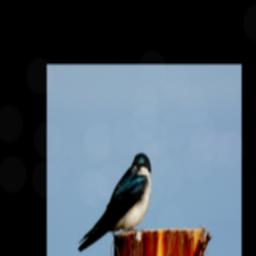Swallow: (77, 152, 152, 254)
